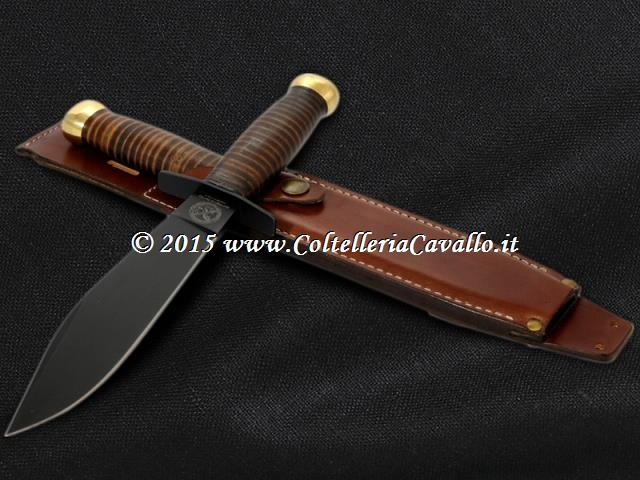knife: (1, 181, 240, 440)
